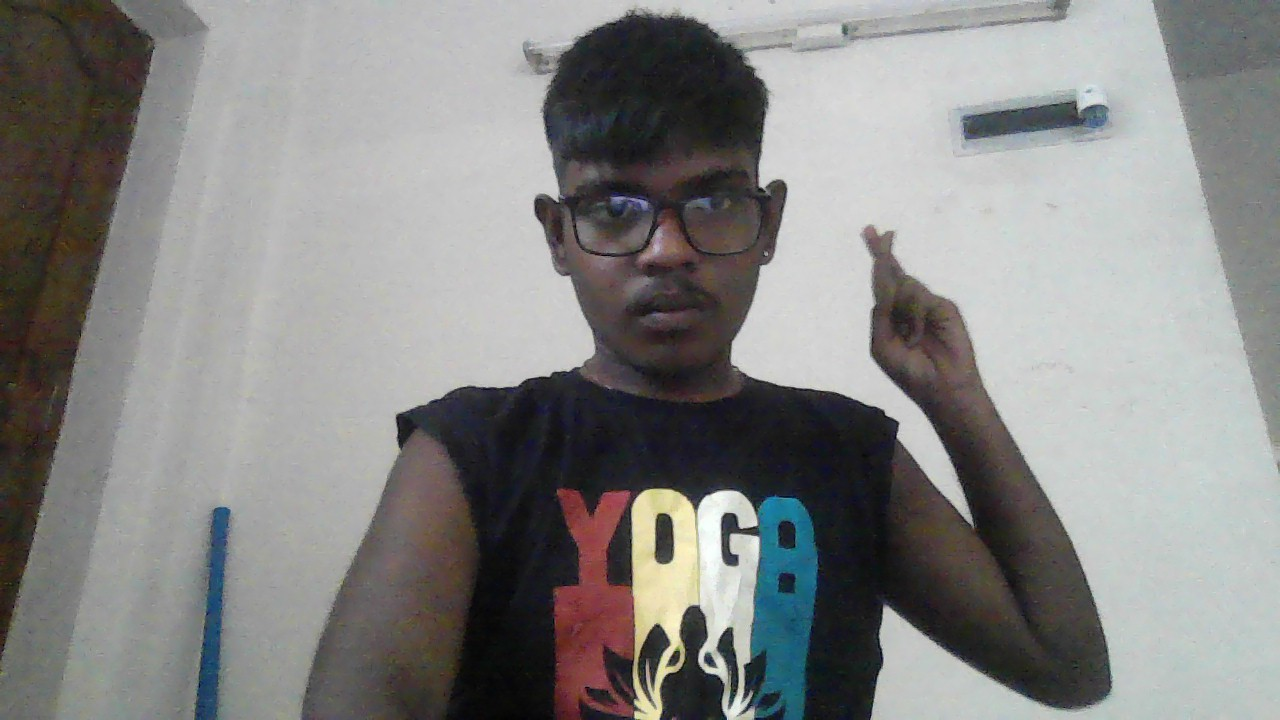R: (860, 223, 977, 400)
